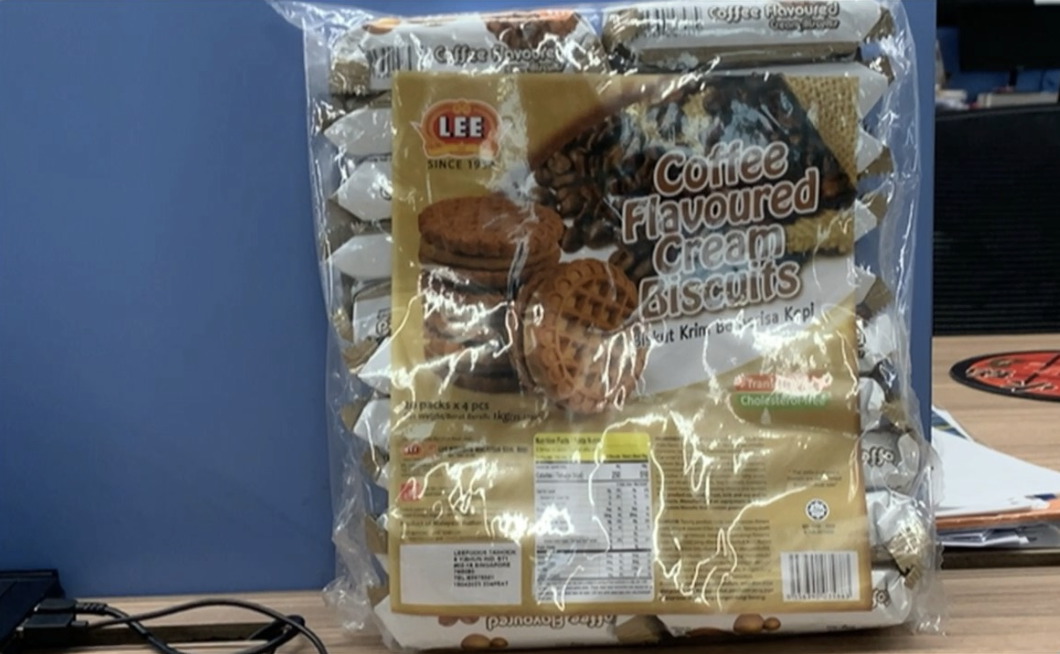cookies_1kg-1.99kg: (388, 79, 861, 602)
